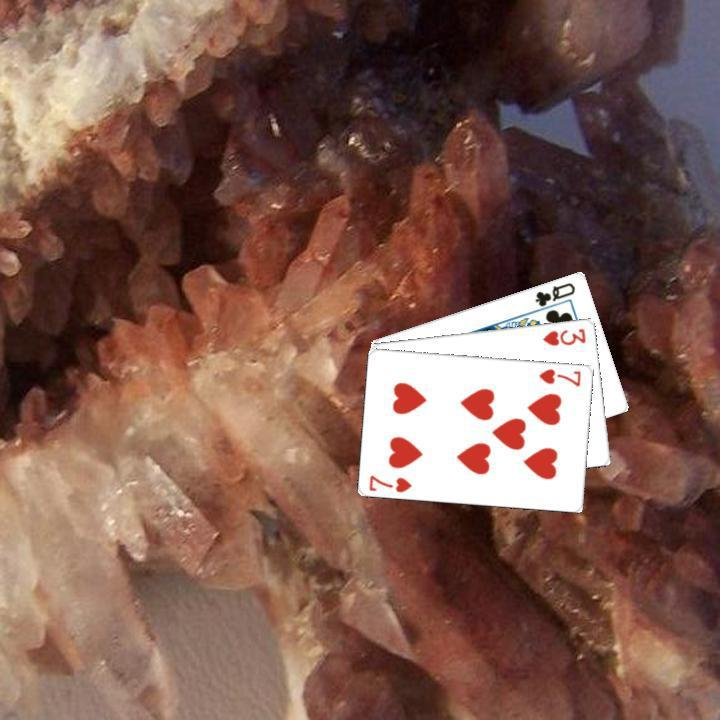3: (539, 324, 588, 347)
7: (365, 470, 414, 494), (535, 364, 583, 388)
Q: (531, 278, 577, 308)
